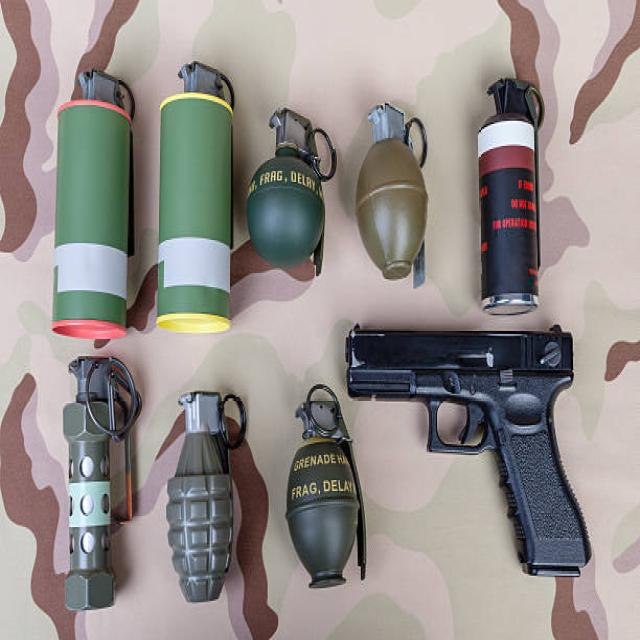grenade: (53, 351, 150, 623), (468, 70, 550, 320), (282, 380, 373, 603), (164, 383, 252, 608), (243, 94, 342, 284), (357, 97, 434, 297)
